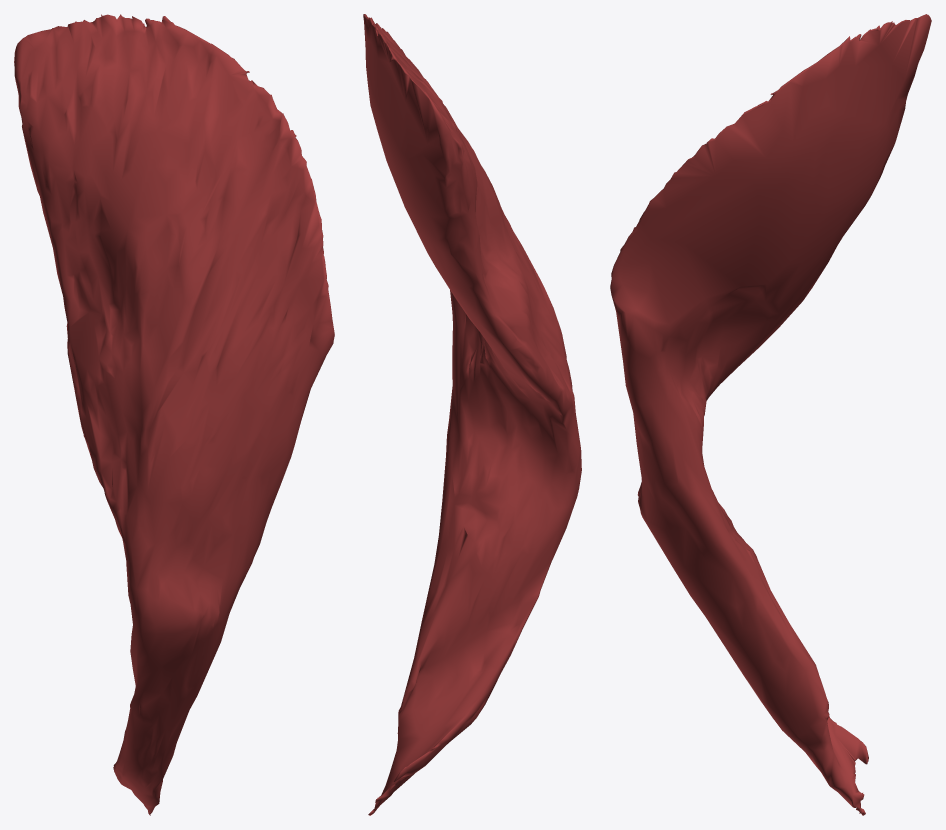
Rendered from iliacus-muscle-l.glb.
3 renders of one model, left to right at view 1: azimuth 30°, elevation 25°; view 2: azimuth 150°, elevation 25°; view 3: azimuth 270°, elevation 25°, orthographic. The views are drawn at different scales.
Visible parts, largest first — view 1: Iliacus muscle.l; view 2: Iliacus muscle.l; view 3: Iliacus muscle.l.
Boxes of the visible parts, bbox=[...] form: Iliacus muscle.l: bbox=[14, 14, 334, 815]; Iliacus muscle.l: bbox=[363, 14, 581, 815]; Iliacus muscle.l: bbox=[610, 14, 931, 815].
Bounding box in the file's own units: 0.0561 × 0.2316 × 0.0862.
